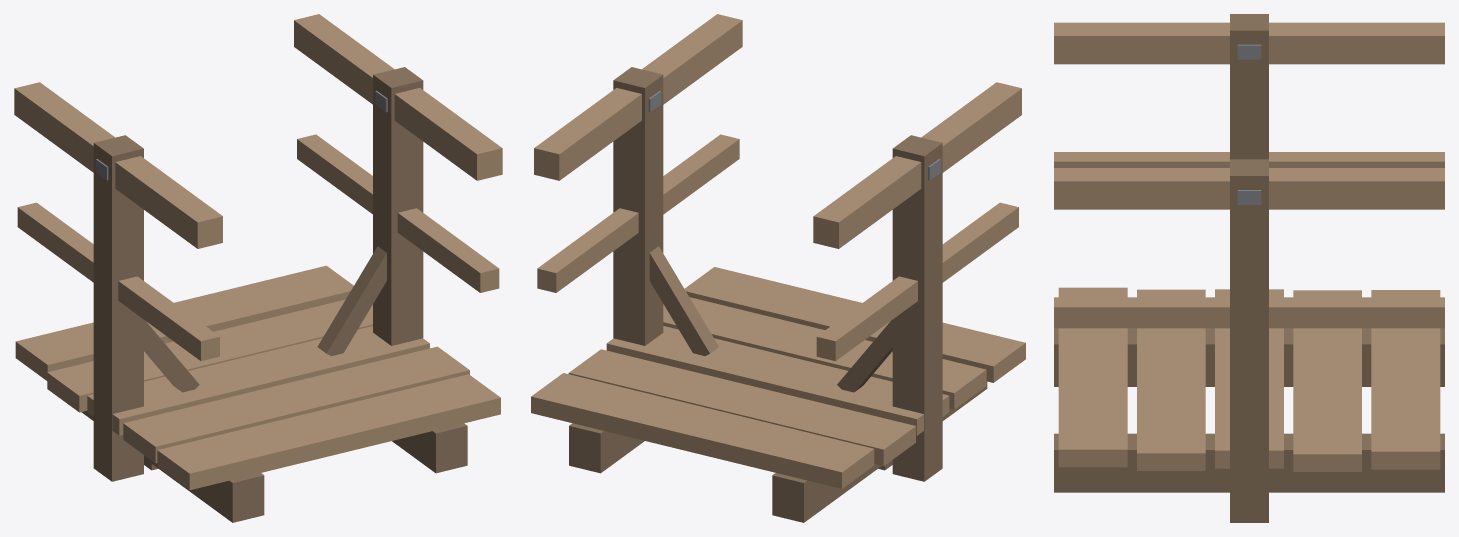
File: bridge-wood-single.glb
The picture shows the model from 3 angles, left to right: view 1: azimuth 30°, elevation 25°; view 2: azimuth 150°, elevation 25°; view 3: azimuth 270°, elevation 25°; orthographic projection. The views are drawn at different scales.
Visible parts, largest first — view 1: bridge-wood-single; view 2: bridge-wood-single; view 3: bridge-wood-single.
Boxes of the visible parts, <box> form: bridge-wood-single: <box>14,14,502,522</box>; bridge-wood-single: <box>531,14,1025,522</box>; bridge-wood-single: <box>1054,14,1444,522</box>.
Bounding box in the file's own units: 0.999 × 0.98 × 1.
